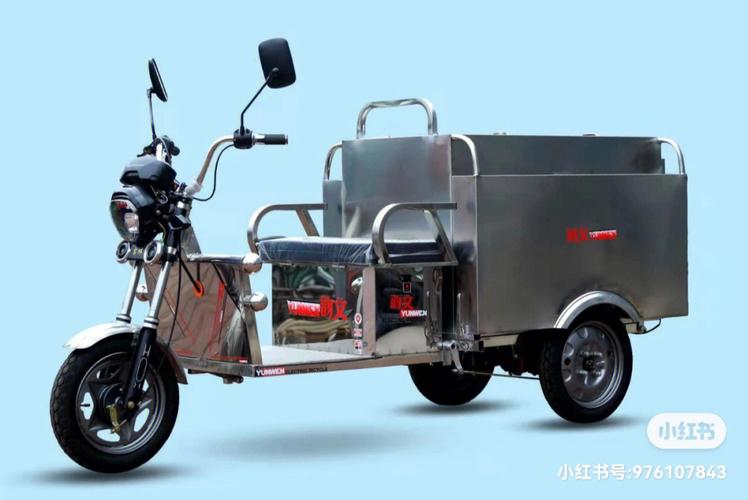empty: (25, 12, 681, 471)
